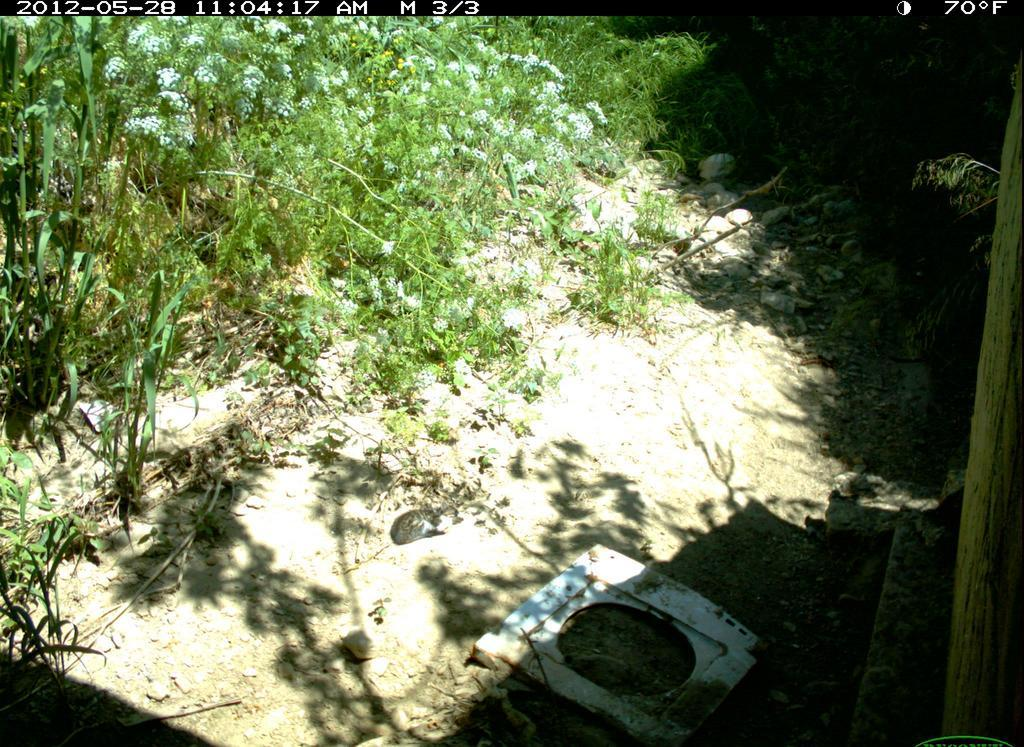cat: (388, 493, 469, 561)
